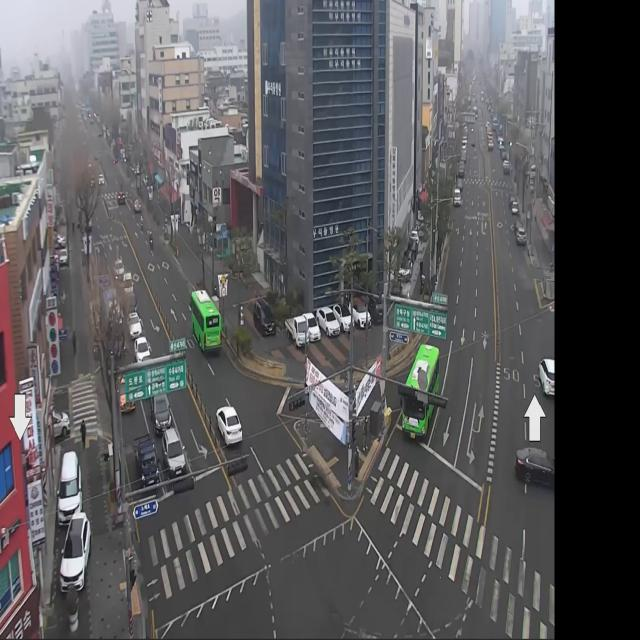car: (402, 337, 440, 445), (190, 286, 221, 354)
motorcycle: (59, 509, 92, 597), (515, 439, 555, 498), (57, 451, 83, 528), (162, 426, 186, 481), (216, 404, 244, 447), (252, 292, 276, 339), (149, 385, 172, 434), (538, 354, 555, 396), (135, 334, 151, 370), (127, 309, 143, 342), (122, 270, 134, 300), (514, 221, 526, 247), (113, 255, 124, 280), (453, 184, 462, 207)
truck: (134, 434, 160, 499), (284, 313, 310, 346)
